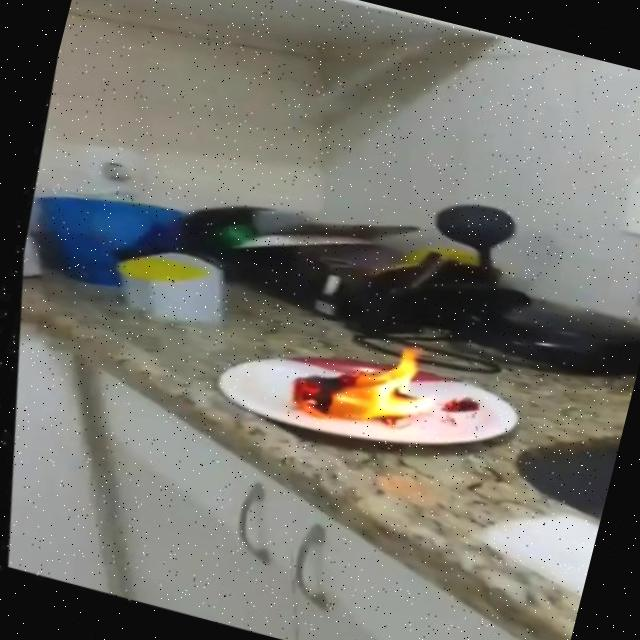fire: (259, 309, 453, 455)
